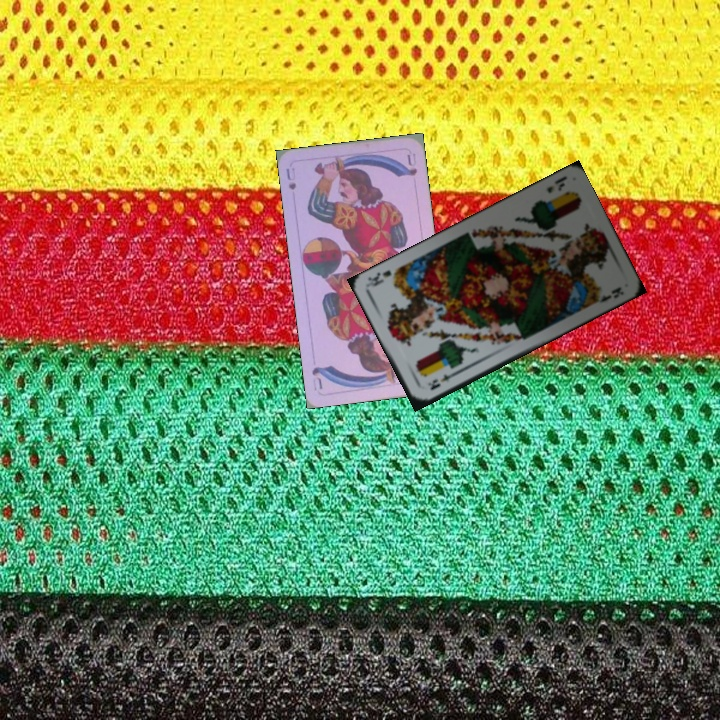EK: (424, 368, 458, 393), (542, 172, 569, 196)
SU: (282, 164, 299, 192)
